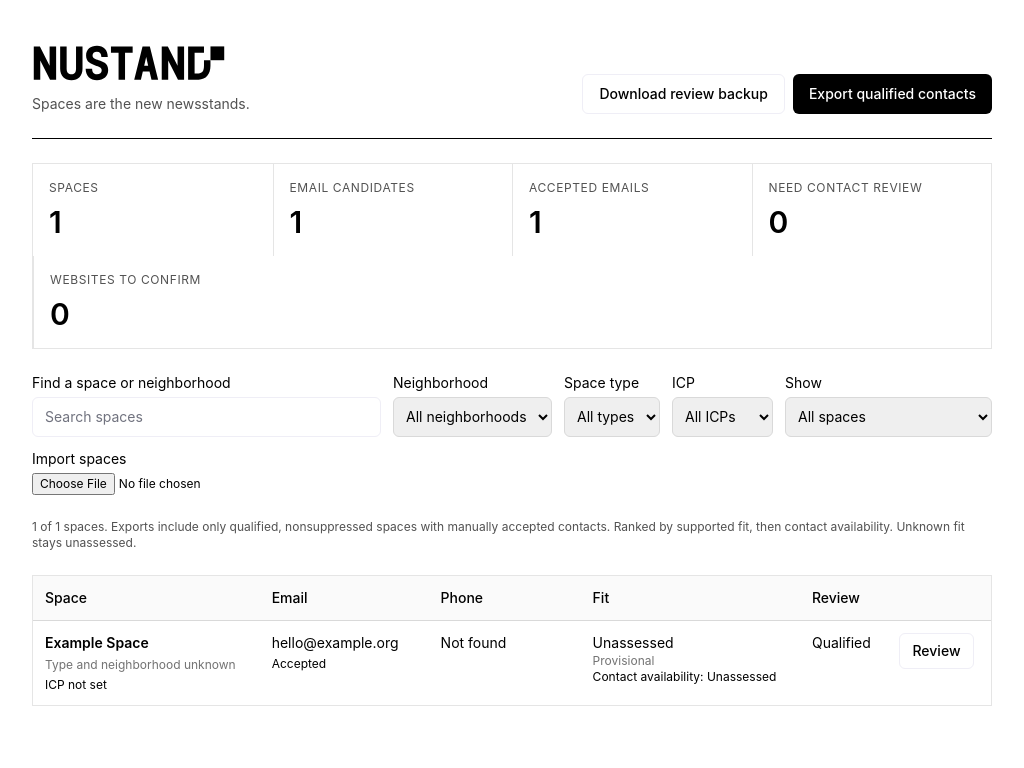
it: Prospect workflow › blocks a stale-tab export when the current server check fails
This screenshot has width=1024, height=768.
Click the button "Export qualified contacts" at [892, 94], box [793,74,992,114]
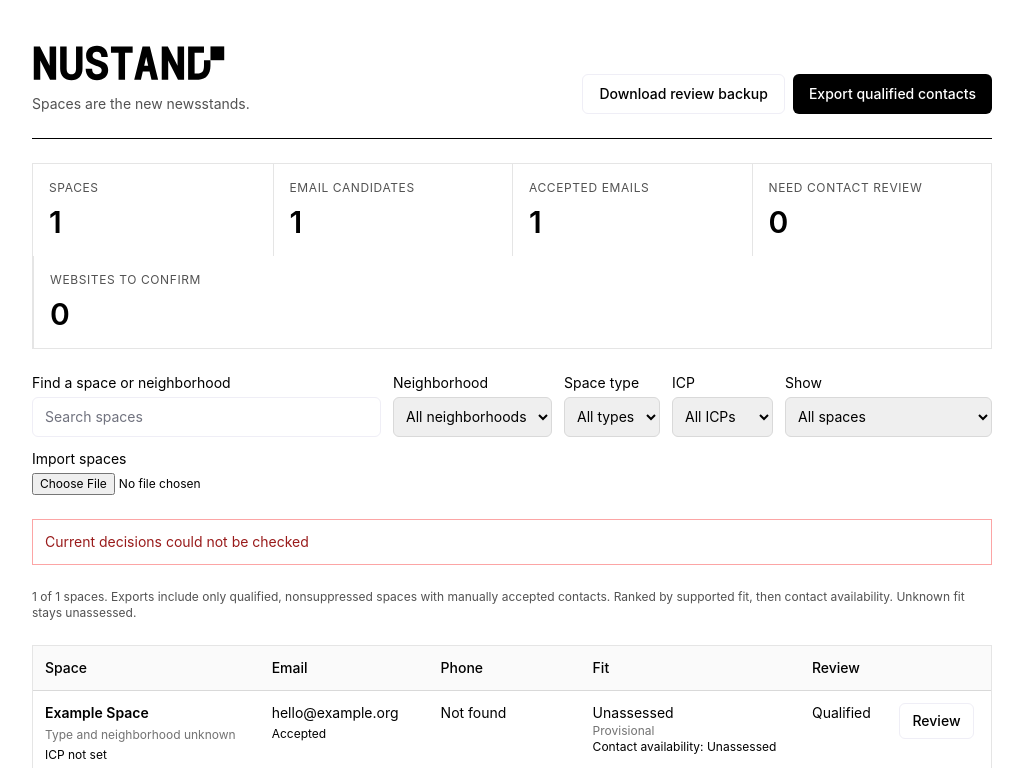
Result: the text "Current decisions could not be checked" is shown at [32,519,992,565]
